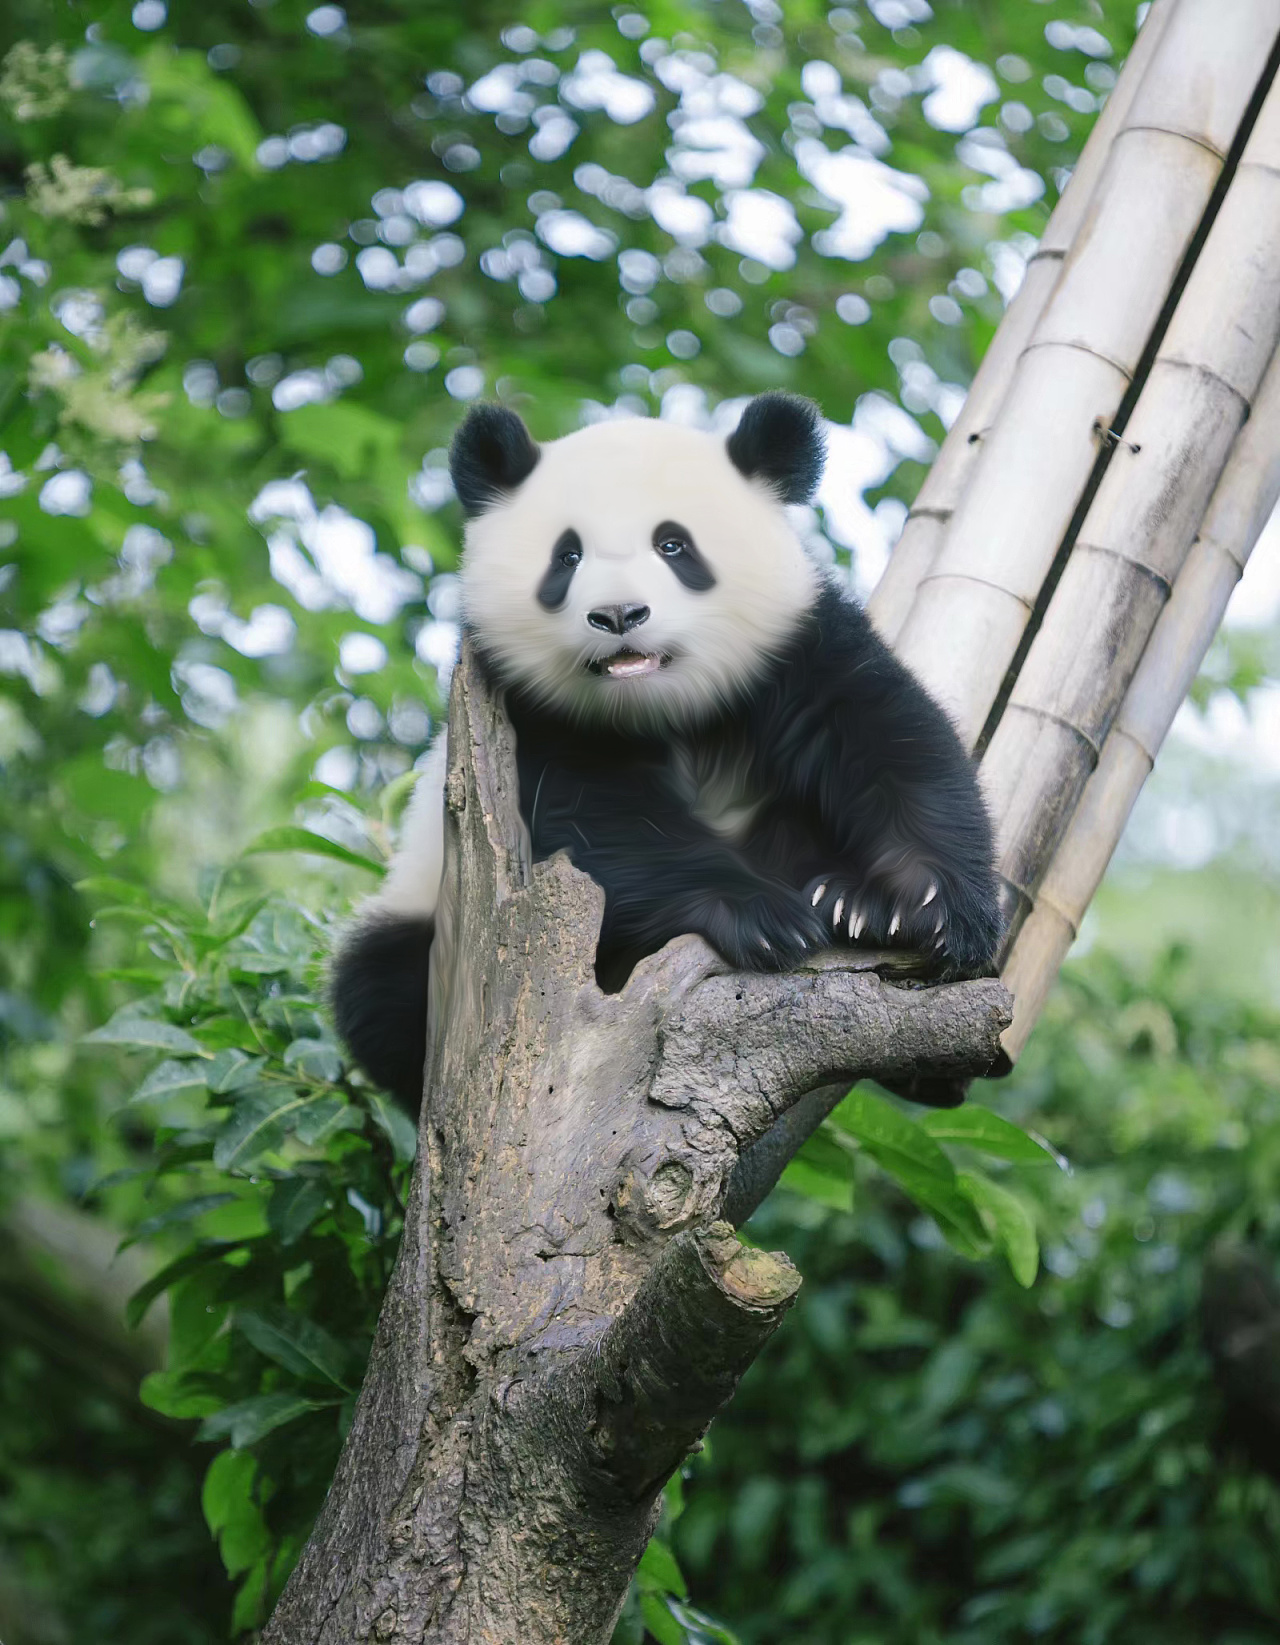panda: (320, 369, 1008, 1194)
